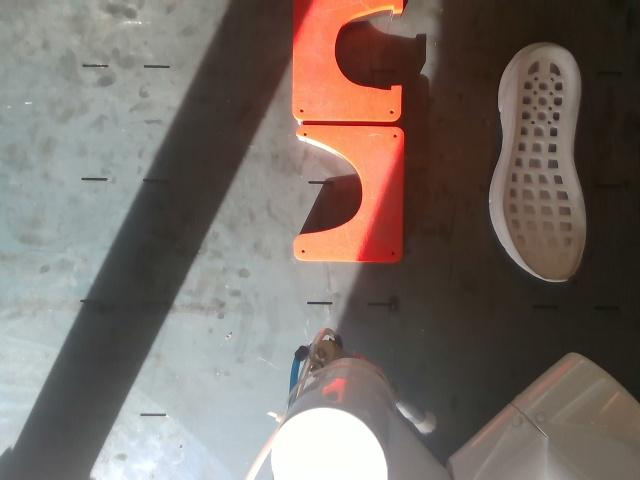shoes: (503, 45, 586, 281)
